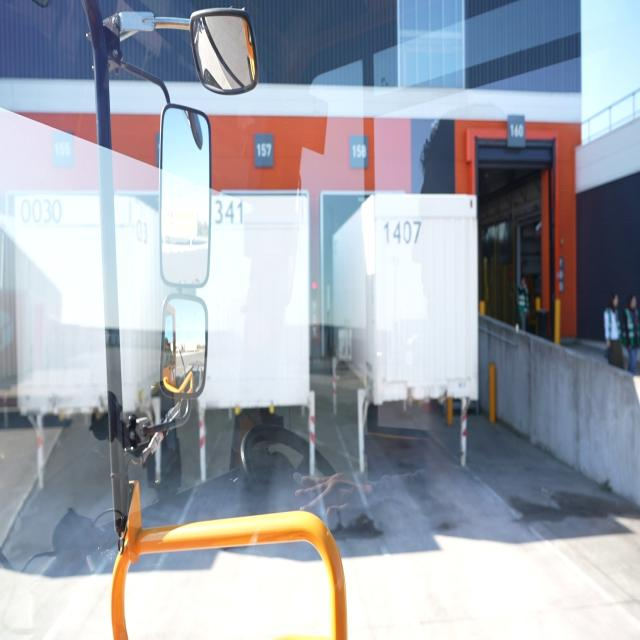Code: (18, 192, 65, 228), (382, 211, 426, 249)
